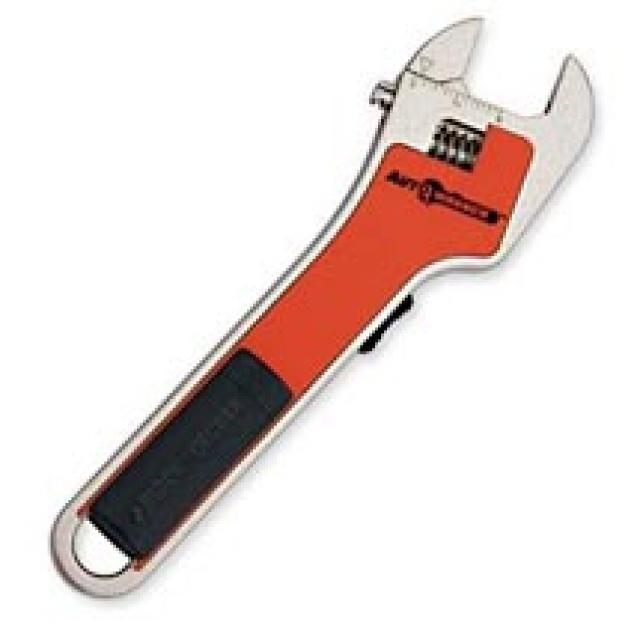wrench: (37, 8, 606, 610)
